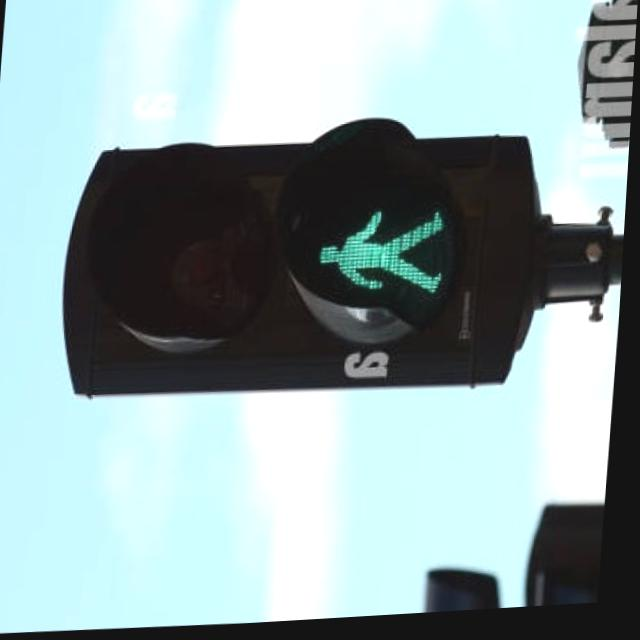green_light: (301, 189, 463, 317)
